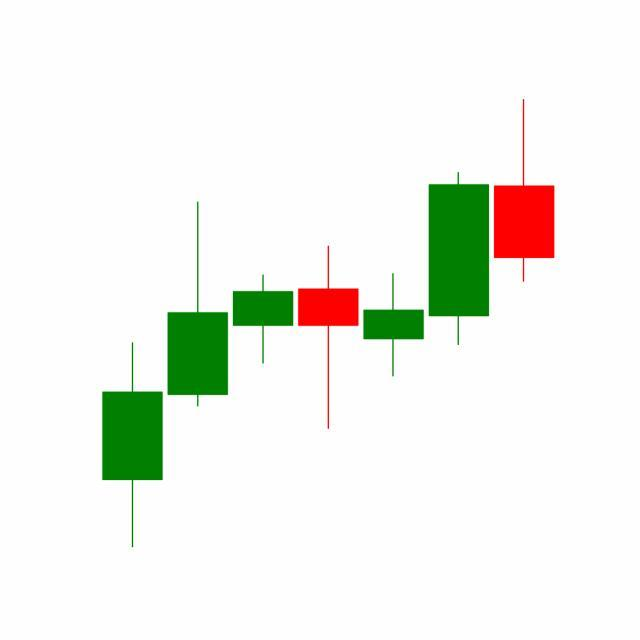Hikkake Pattern: (165, 170, 492, 433)
